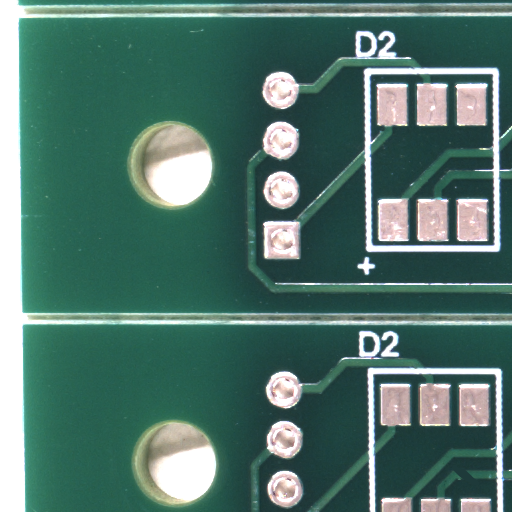Open_circuit: (463, 474, 483, 486)
